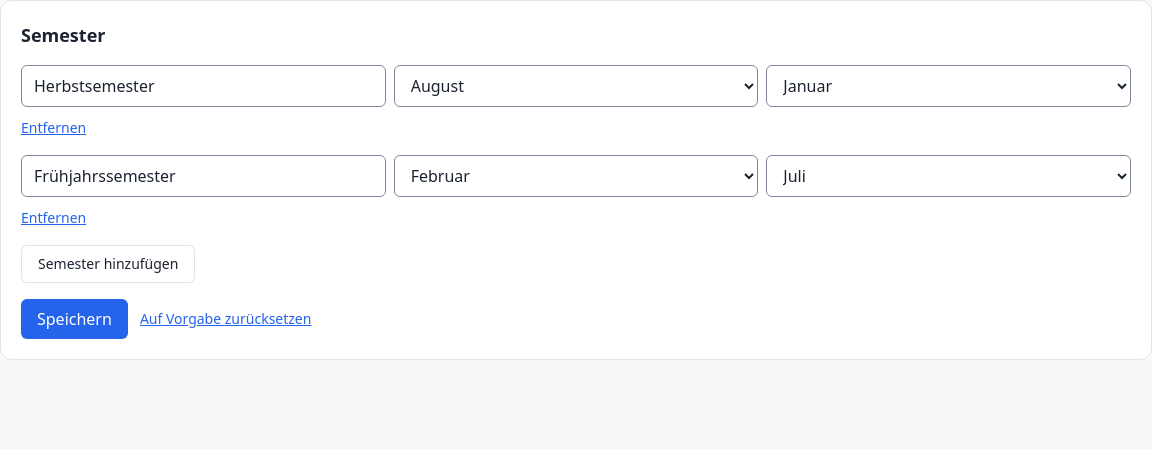
Semester › Namen und Monate ändern und speichern
The image size is (1152, 449).
Replace the text in the field named "Name Semester 1" with "Frühling" at point(203, 86), box [21,65,386,107]
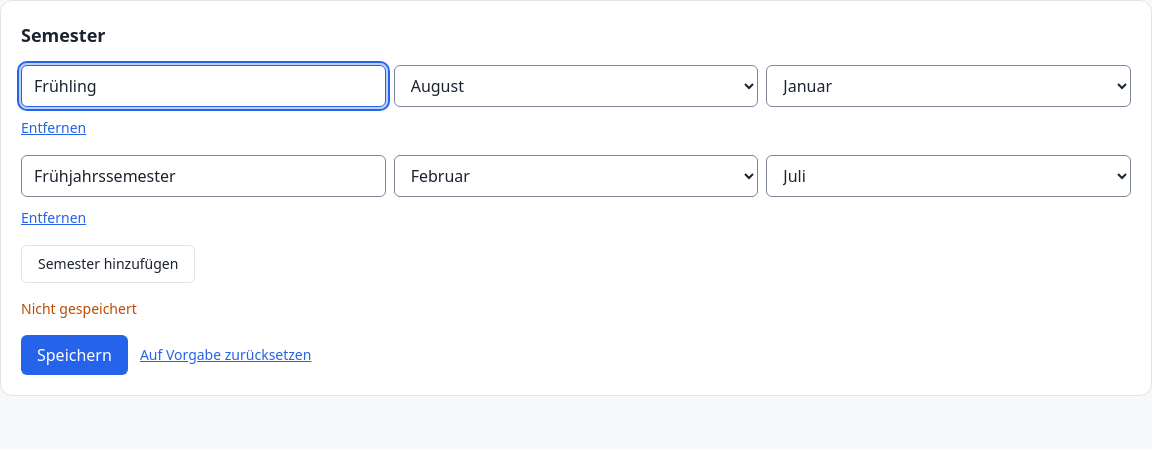
Select "September" in the dropdown named "Start Semester 1" at point(576, 86), box [394,65,758,107]
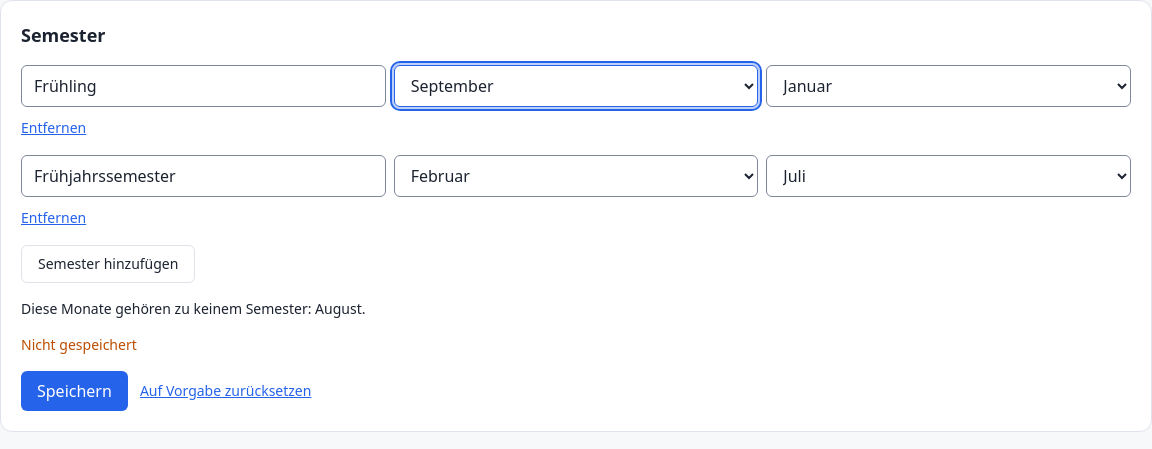
Click the button "Speichern" at point(74, 391), box [21,371,128,411]
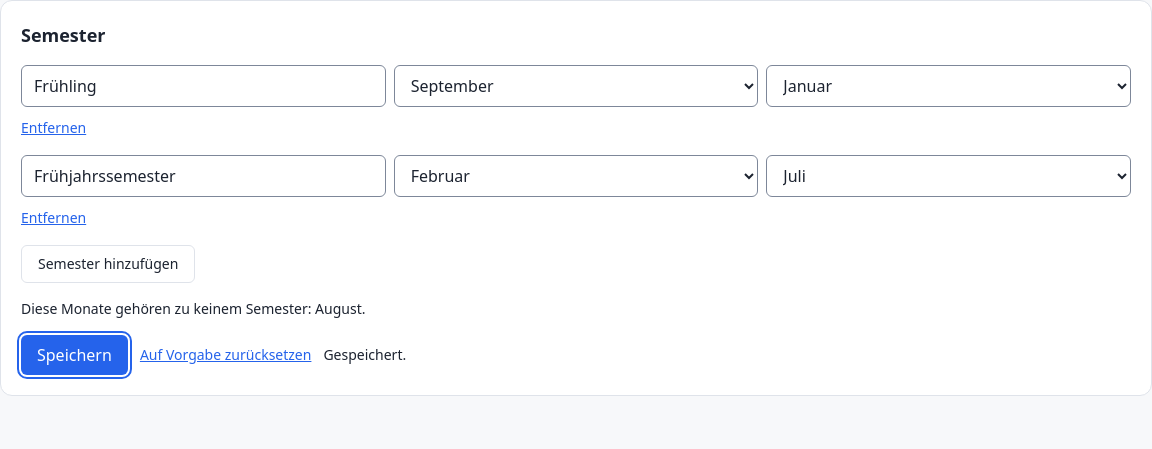
Now the message reads "Gespeichert.", box [323,345,406,364]
